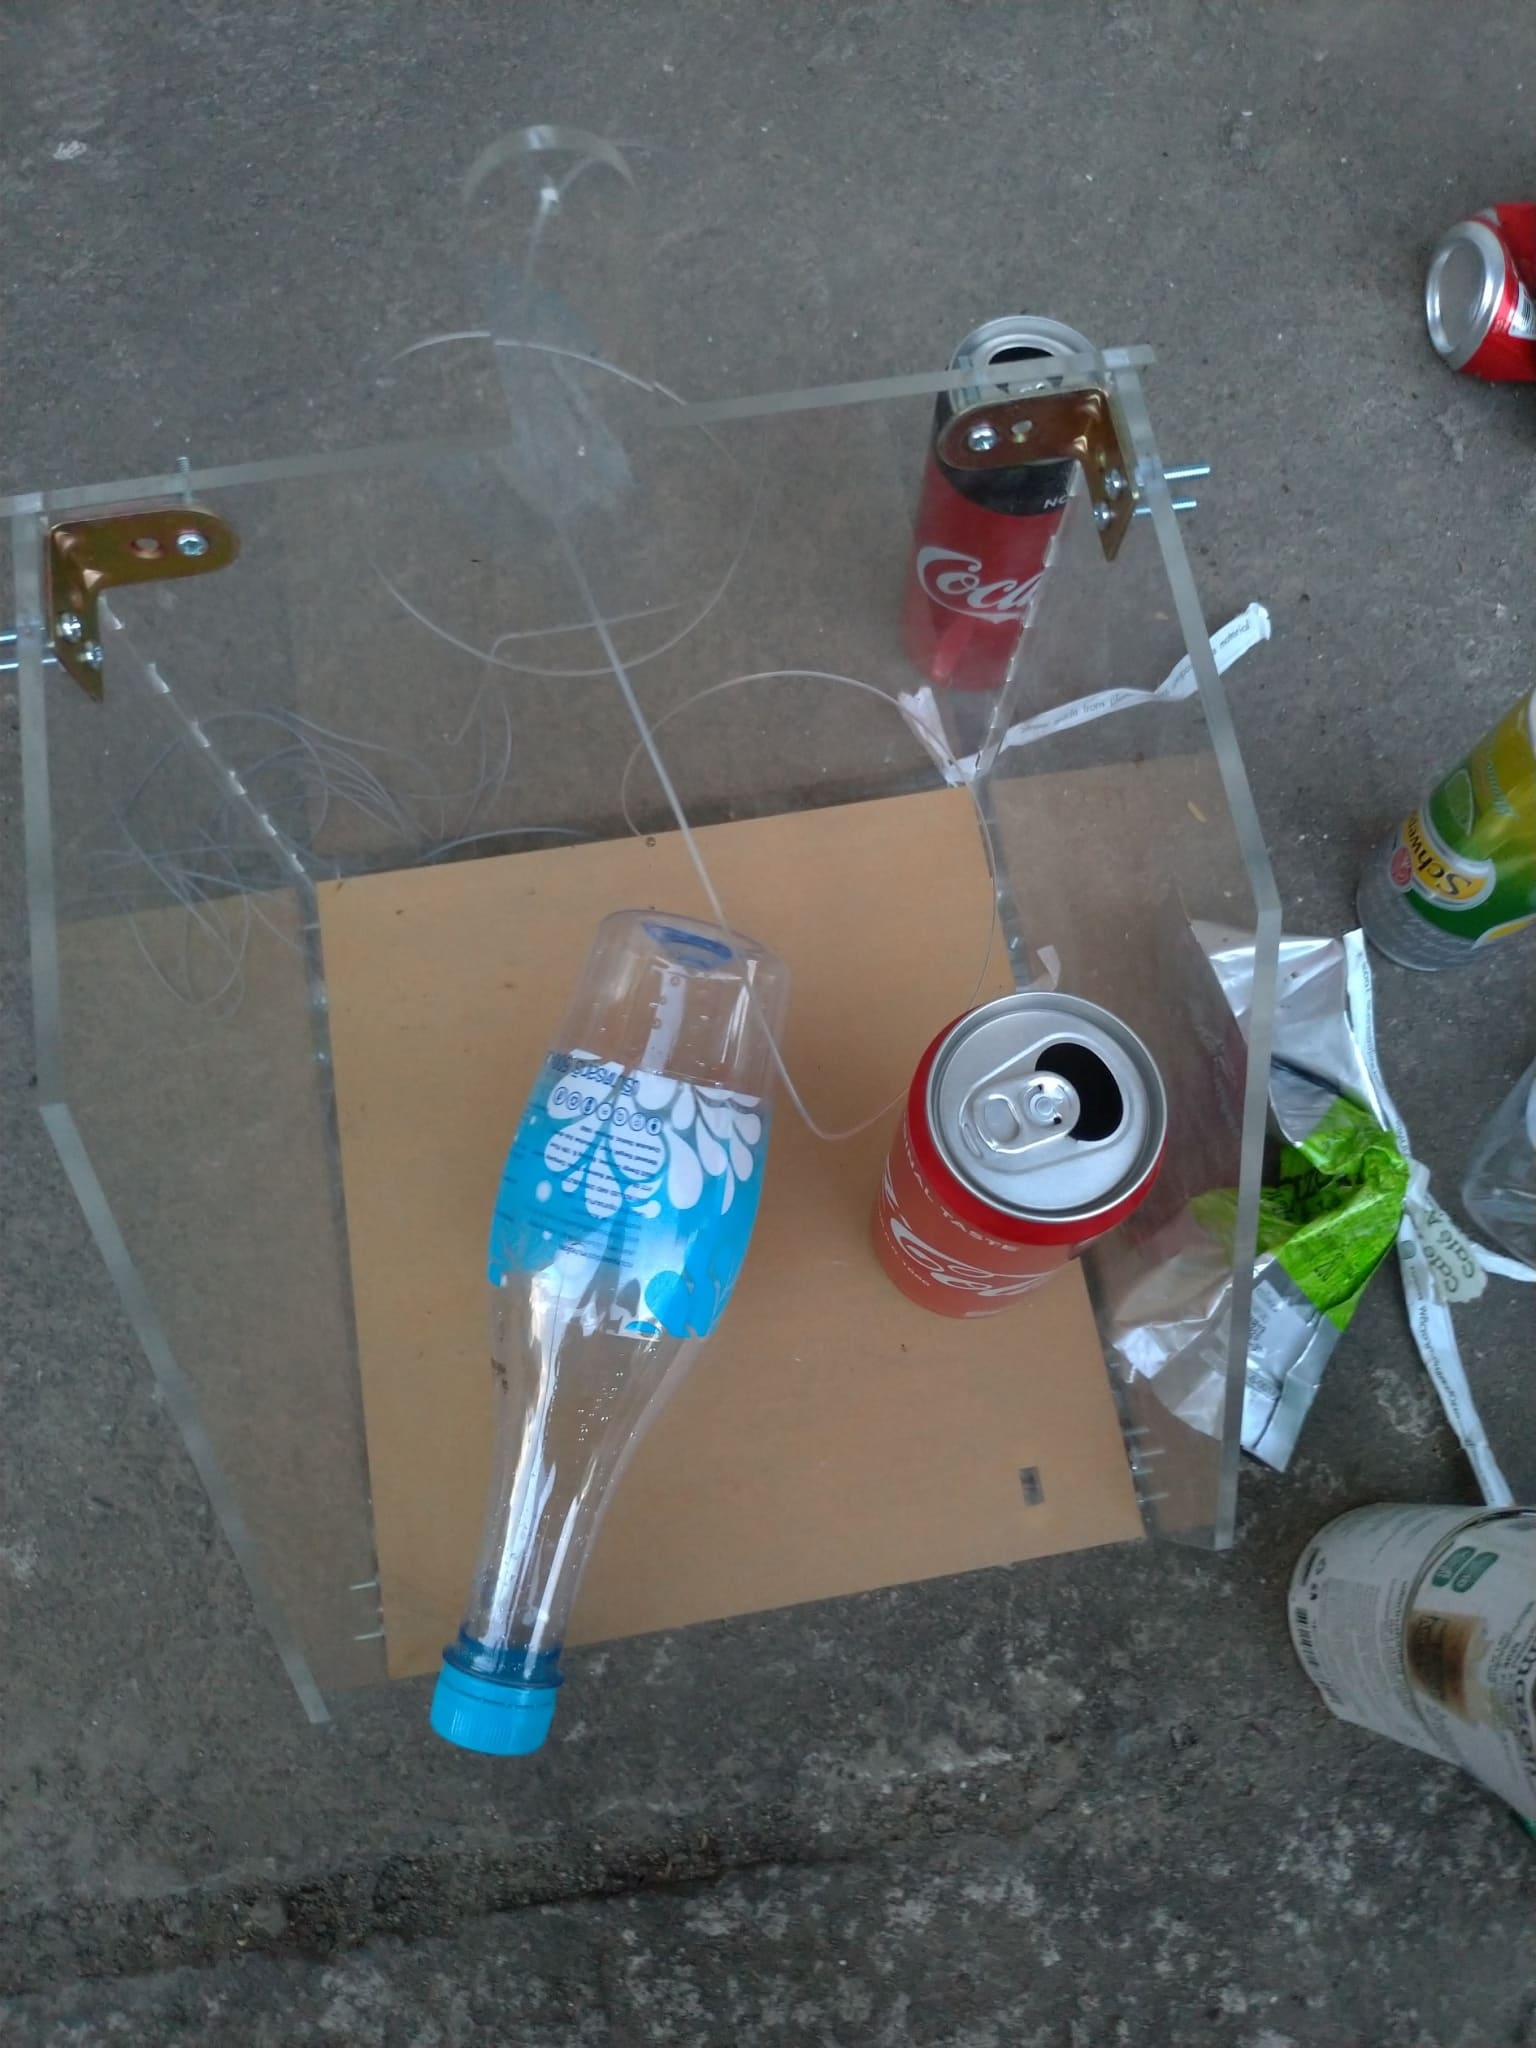AlCan: (866, 989, 1167, 1322), (897, 314, 1110, 692), (1288, 1501, 1536, 1813), (1357, 684, 1536, 976), (1425, 205, 1536, 393)
Others: (1107, 911, 1521, 1488), (894, 684, 1204, 780)
PlasticBottle: (423, 905, 771, 1758)
